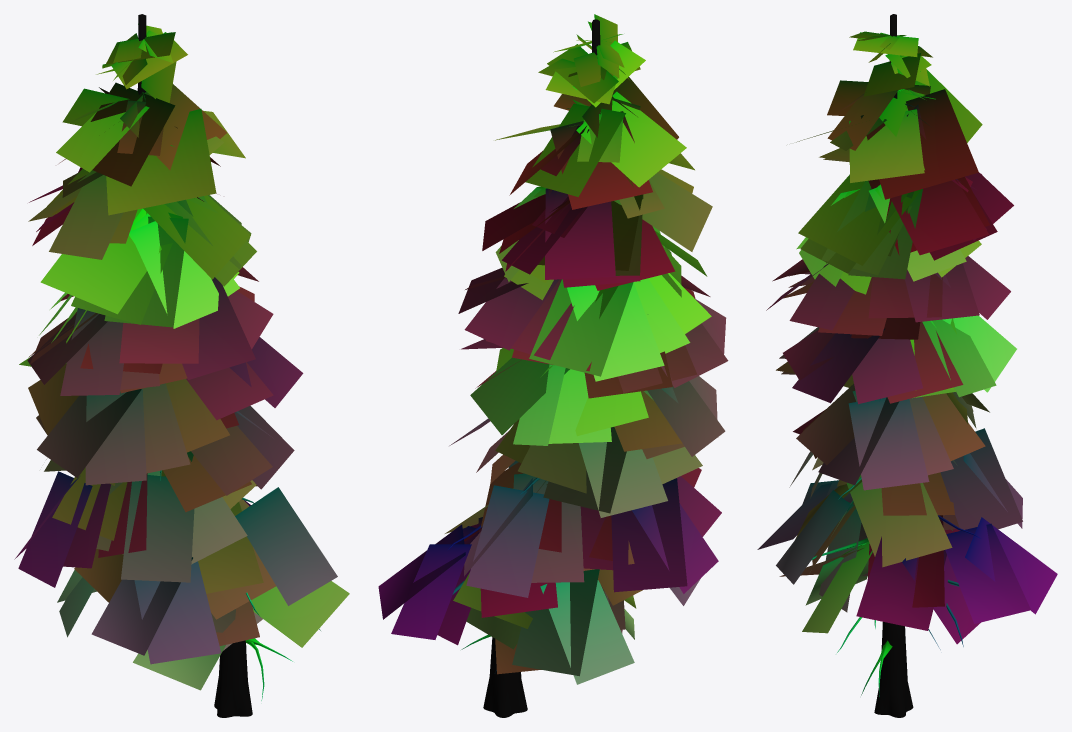
Rendered from M_Pine_4_15.fbx.
The picture shows the model from 3 angles, left to right: view 1: azimuth 30°, elevation 25°; view 2: azimuth 150°, elevation 25°; view 3: azimuth 270°, elevation 25°; orthographic projection. The views are drawn at different scales.
Visible parts, largest first — view 1: Tree_15; view 2: Tree_15; view 3: Tree_15.
Boxes of the visible parts, x1,y1,x2,y2 form: Tree_15: (14,14,349,717); Tree_15: (378,14,728,717); Tree_15: (757,14,1057,717).
Bounding box in the file's own units: 1073 × 2527 × 1051.
